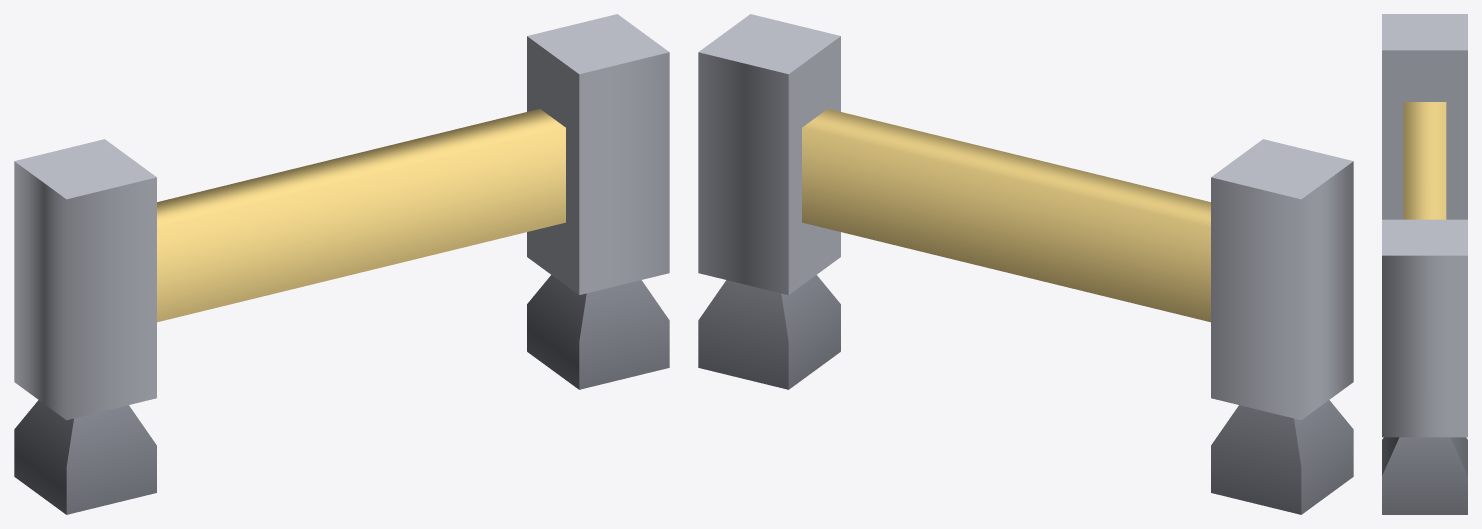
File: structure-yellow-short.fbx
3 views of the same model, side by side, from view 1: azimuth 30°, elevation 25°; view 2: azimuth 150°, elevation 25°; view 3: azimuth 270°, elevation 25° (orthographic). The views are drawn at different scales.
Visible parts, largest first — view 1: structure-yellow-short; view 2: structure-yellow-short; view 3: structure-yellow-short.
Part boxes in pixels (left/top/right/bottom): structure-yellow-short: left=14, top=14, right=669, bottom=514; structure-yellow-short: left=698, top=14, right=1353, bottom=514; structure-yellow-short: left=1382, top=14, right=1467, bottom=514.
Bounding box in the file's own units: 100 × 50 × 15.
